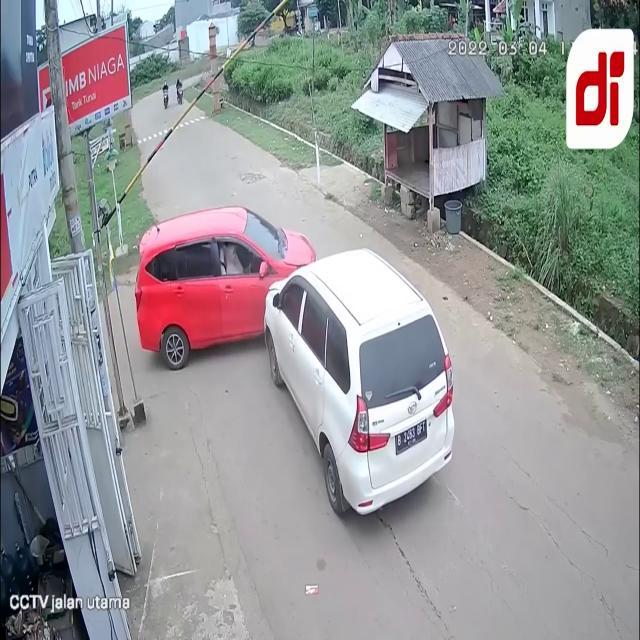multiple_accident: (115, 165, 466, 519)
